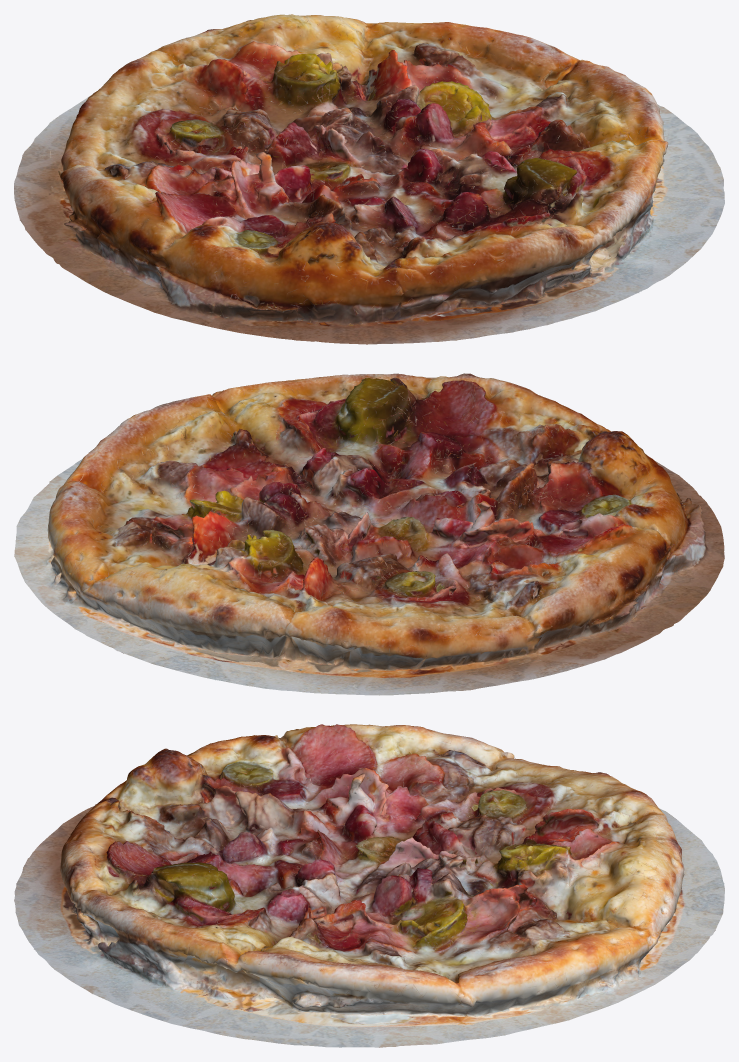
3 views of the same model, one above another, from view 1: azimuth 30°, elevation 25°; view 2: azimuth 150°, elevation 25°; view 3: azimuth 270°, elevation 25° (orthographic).
Parts seen in each view (by area): view 1: decMesh; view 2: decMesh; view 3: decMesh.
Boxes of the visible parts, <box> form: decMesh: <box>14,14,724,344</box>; decMesh: <box>14,373,724,695</box>; decMesh: <box>14,724,724,1047</box>.
Bounding box in the file's own units: 0.6983 × 0.0847 × 0.698.
Materials: 1 (1 with a texture image).
